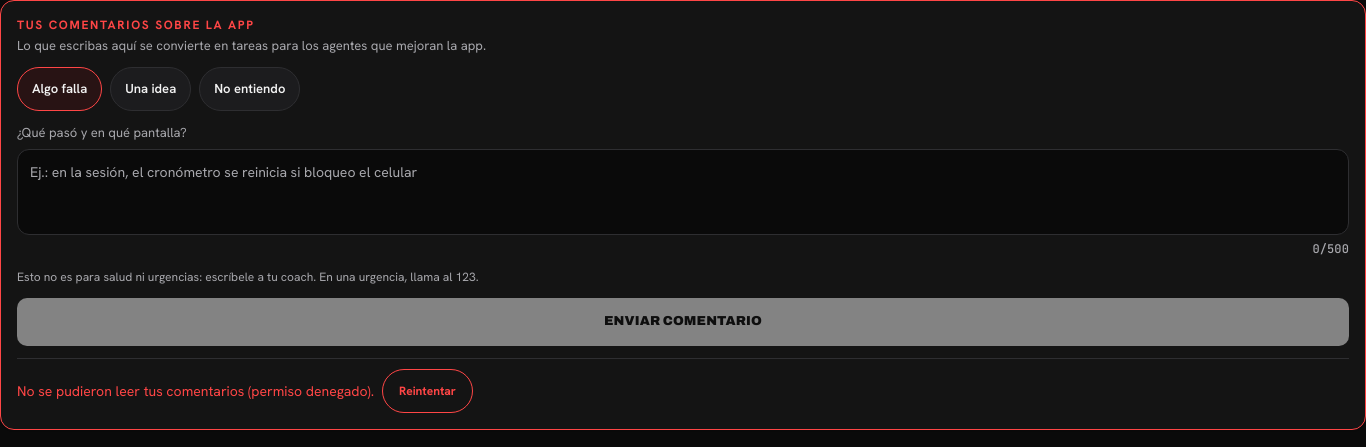
Test case: los estados de lo que ya enviaste › un error al leer NO se dice «no has enviado»: se dice error y se reintenta
Expected: the message shows "No se pudieron leer tus comentarios (permiso denegado)", 17,382 -> 374,400
Click the button "Reintentar". click: (428, 390)
box: 382,368 -> 473,412
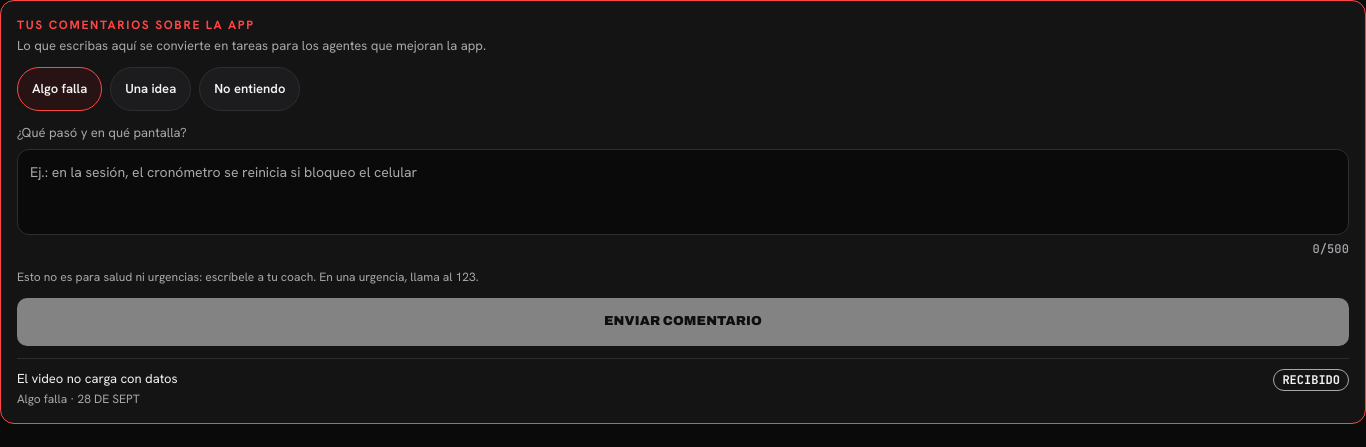
Result: the text "El video no carga con datos" is shown at 17,368 -> 178,389
